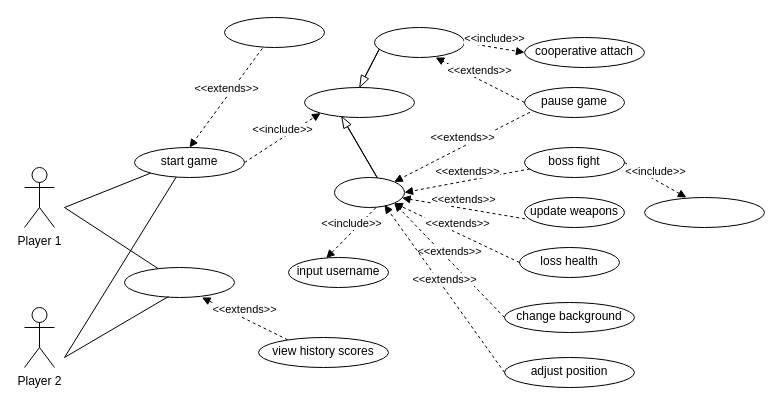
The diagram is 782 pixels wide and 406 high, and some of its shapes have lost their labels. The centre of each missing label's shape, as x and y in pixels:
"instruction" goes at (x=274, y=32).
"select mode" goes at (x=359, y=102).
"single" goes at (x=369, y=192).
"two player" goes at (x=419, y=42).
"view rank" goes at (x=179, y=282).
"win previous levels" goes at (x=704, y=212).
